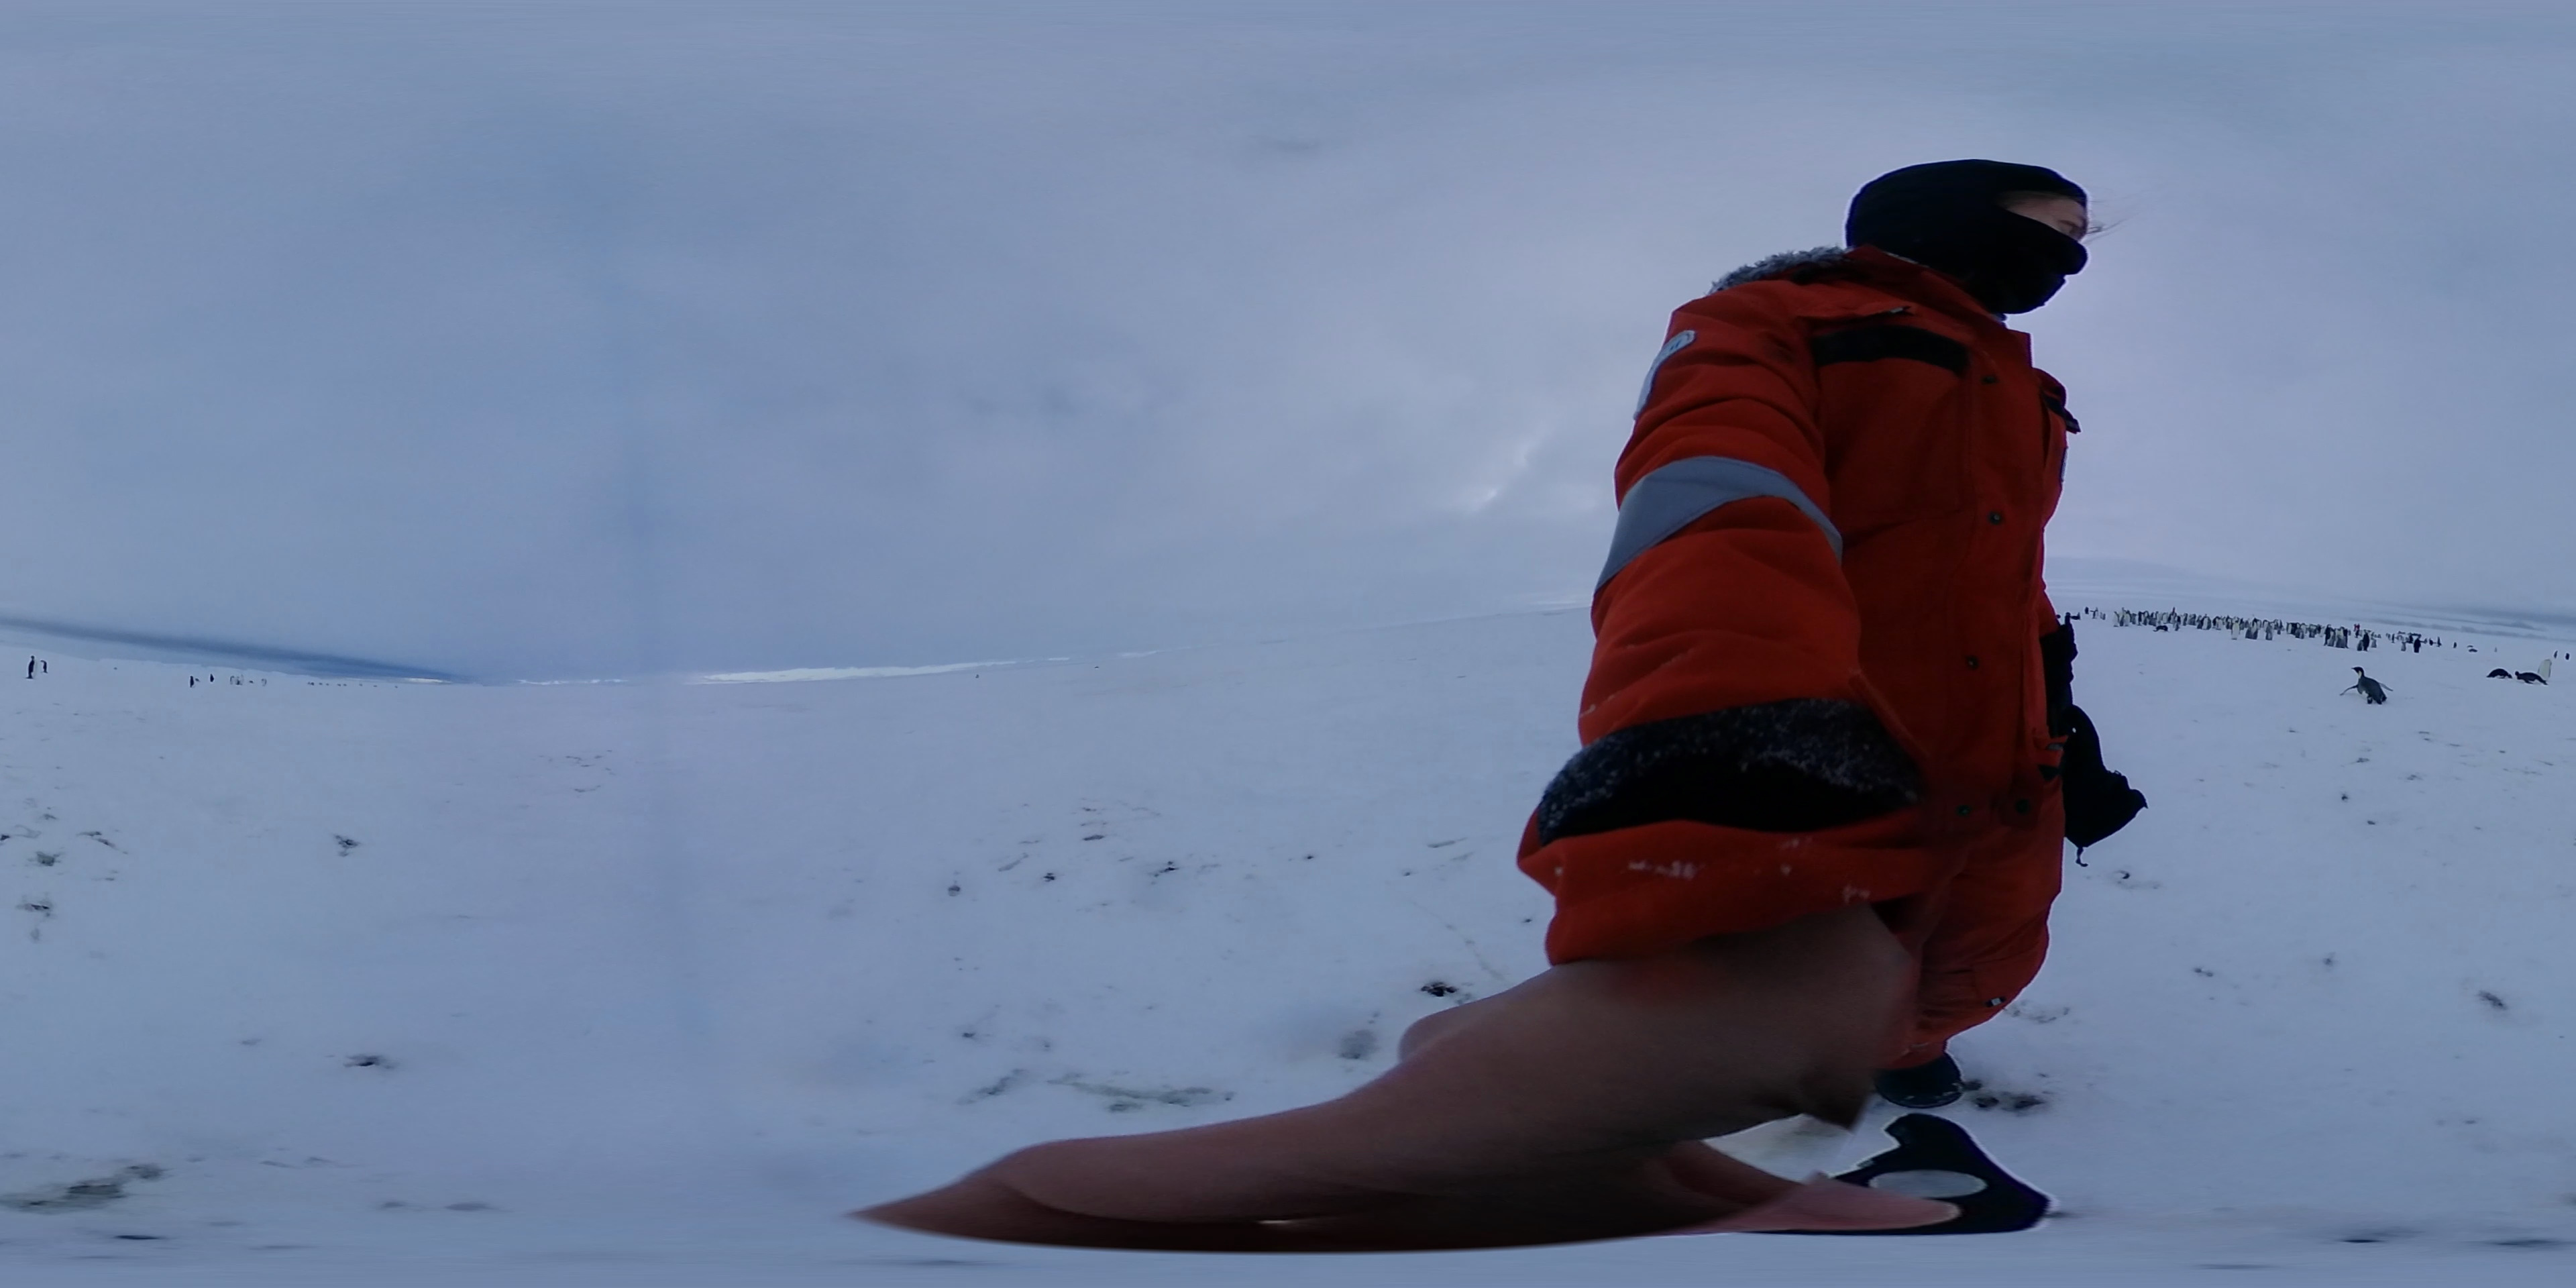adult_standing_penguin: (2535, 659, 2553, 683), (26, 655, 39, 683)
adult_toboggan_penguin: (2334, 665, 2394, 705), (2512, 670, 2550, 685), (2489, 665, 2514, 682)
researcher: (1541, 123, 2170, 1175)
